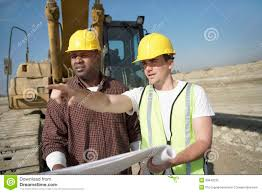helmet: (134, 37, 180, 57), (64, 29, 102, 52)
vest: (141, 87, 207, 174)
